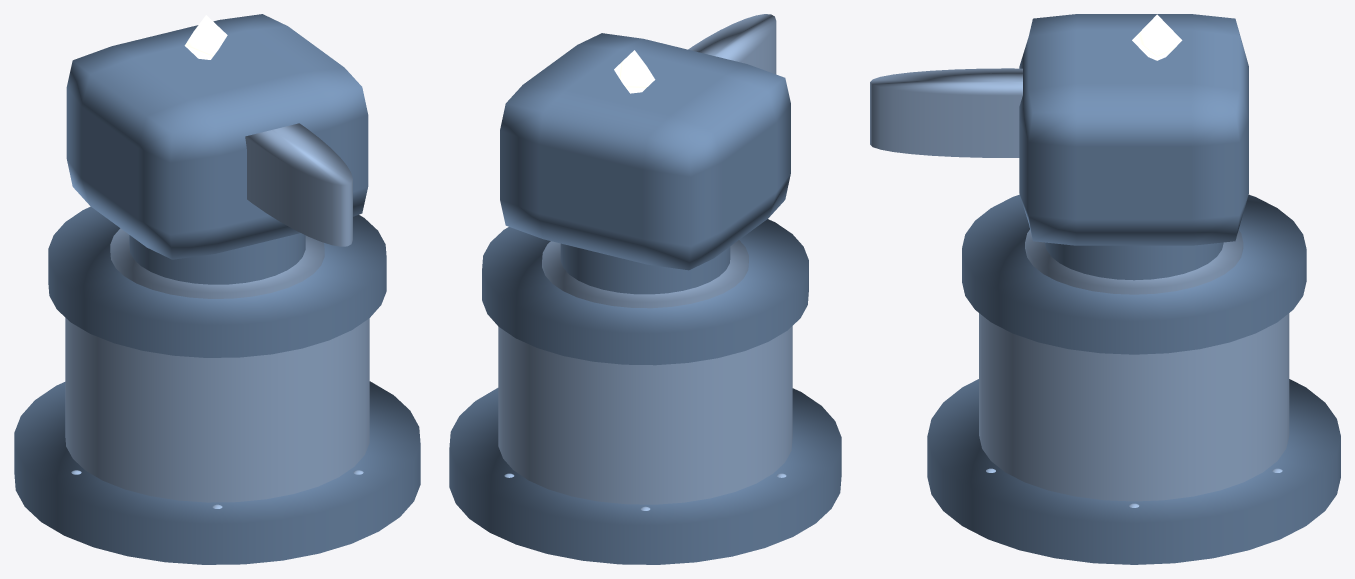
File: cannon_l4.glb
The picture shows the model from 3 angles, left to right: view 1: azimuth 30°, elevation 25°; view 2: azimuth 150°, elevation 25°; view 3: azimuth 270°, elevation 25°; orthographic projection. The views are drawn at different scales.
Visible parts, largest first — view 1: shield, base, footing, baseCollar, barrel, shaft, lowerTrim, spinCrystal; view 2: shield, base, footing, baseCollar, shaft, lowerTrim, barrel, spinCrystal; view 3: shield, base, footing, baseCollar, barrel, shaft, lowerTrim, spinCrystal.
Part boxes in pixels (x1,y1,x2,y2): shield: (66,14,368,259); base: (65,318,369,502); footing: (14,381,420,564); baseCollar: (48,206,386,357); barrel: (245,123,352,246); shaft: (129,233,305,284); lowerTrim: (110,228,324,298); spinCrystal: (184,15,227,59); shield: (500,33,790,270); base: (498,326,792,504); footing: (449,388,841,564); baseCollar: (482,219,808,365); shaft: (560,243,730,294); lowerTrim: (542,240,748,308); barrel: (688,14,776,74); spinCrystal: (614,50,655,93); shield: (1019,14,1248,245); base: (979,313,1289,501); footing: (927,379,1340,564); baseCollar: (962,194,1306,354); barrel: (870,68,1022,157); shaft: (1044,242,1223,280); lowerTrim: (1025,229,1243,294); spinCrystal: (1132,14,1182,60).
Size of the model in its own units: 1.8 by 2.23 by 2.05.
